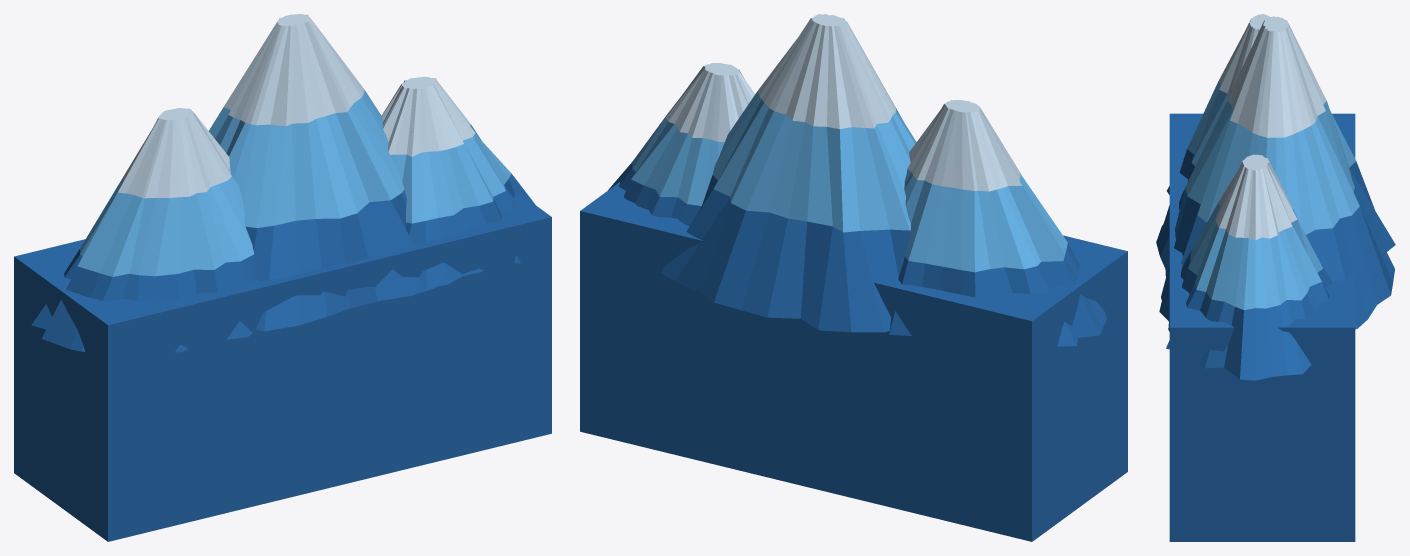
Rendered from iceberg_bg.glb.
The picture shows the model from 3 angles, left to right: view 1: azimuth 30°, elevation 25°; view 2: azimuth 150°, elevation 25°; view 3: azimuth 270°, elevation 25°; orthographic projection. The views are drawn at different scales.
Parts seen in each view (by area): view 1: iceberg_bg; view 2: iceberg_bg; view 3: iceberg_bg.
Part boxes in pixels (x1,y1,x2,y2): iceberg_bg: (14,14,551,541); iceberg_bg: (580,14,1127,541); iceberg_bg: (1156,14,1395,541).
Bounding box in the file's own units: 16.8 × 13.7 × 7.1.
